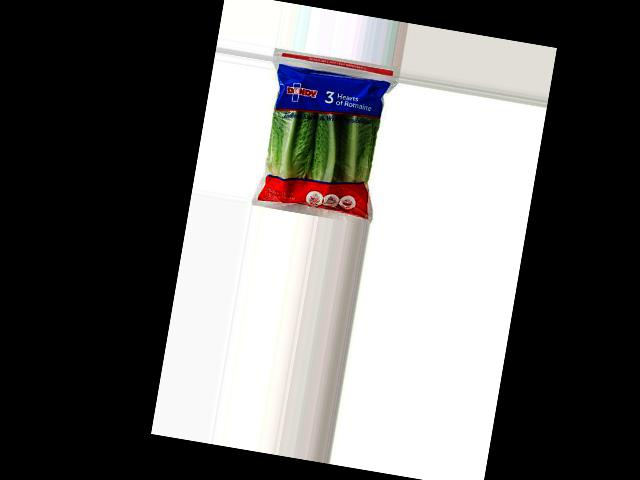lettuce: (262, 55, 388, 169)
